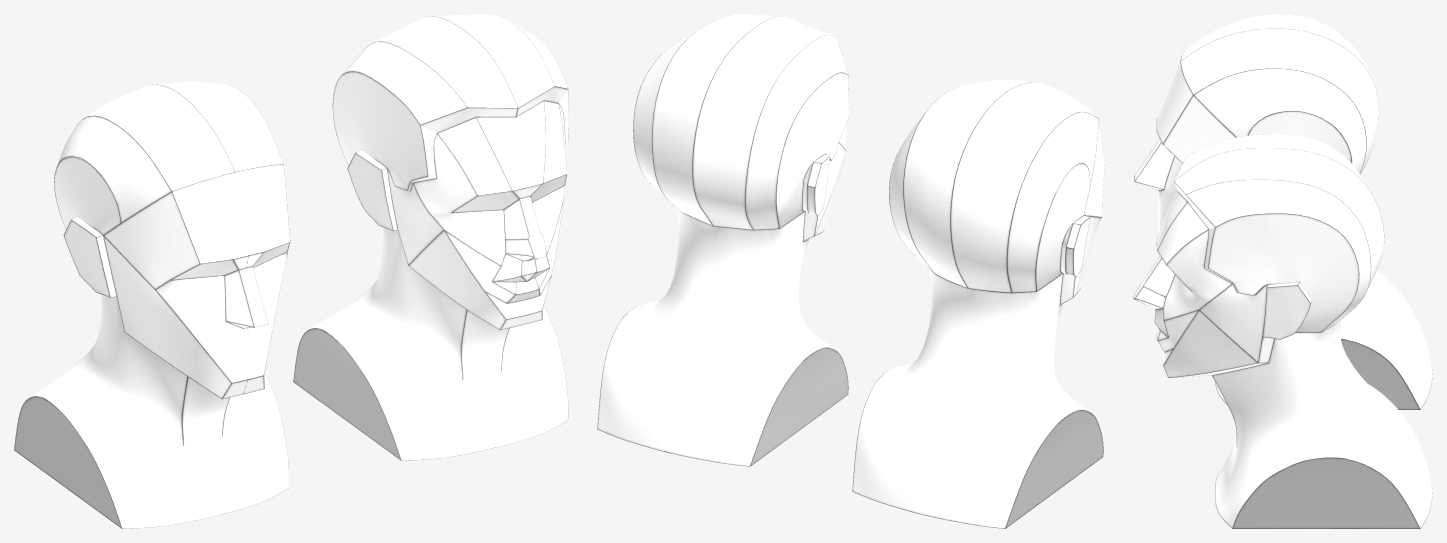
The picture shows the model from 3 angles, left to right: view 1: azimuth 30°, elevation 25°; view 2: azimuth 150°, elevation 25°; view 3: azimuth 270°, elevation 25°; orthographic projection. The views are drawn at different scales.
Visible parts, largest first — view 1: Secondary_Planes_of_the_Head, Basic_Planes_of_the_Head_Basic_Planes_of_the_Head_0; view 2: Secondary_Planes_of_the_Head, Basic_Planes_of_the_Head_Basic_Planes_of_the_Head_0; view 3: Secondary_Planes_of_the_Head, Basic_Planes_of_the_Head_Basic_Planes_of_the_Head_0.
Part boxes in pixels (x1=…): Secondary_Planes_of_the_Head: x1=293, y1=14, x2=568, y2=460; Basic_Planes_of_the_Head_Basic_Planes_of_the_Head_0: x1=14, y1=82, x2=290, y2=528; Secondary_Planes_of_the_Head: x1=597, y1=14, x2=848, y2=466; Basic_Planes_of_the_Head_Basic_Planes_of_the_Head_0: x1=852, y1=79, x2=1104, y2=528; Secondary_Planes_of_the_Head: x1=1133, y1=134, x2=1432, y2=528; Basic_Planes_of_the_Head_Basic_Planes_of_the_Head_0: x1=1134, y1=14, x2=1432, y2=409.
Size of the model in its own units: 0.465 by 0.3687 by 0.289.
2 materials, 2 textured.
